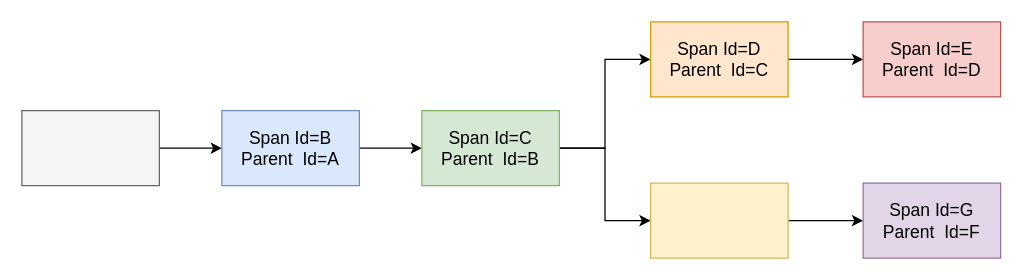
This 1023x280 diagram has some shape labels left out. The box of each missing label's shape, as (x1, y1, x2, y2) in pixels:
Span Id=A Parent Id=null: (21, 109, 159, 186)
Span Id=F Parent Id=C: (649, 182, 788, 258)
